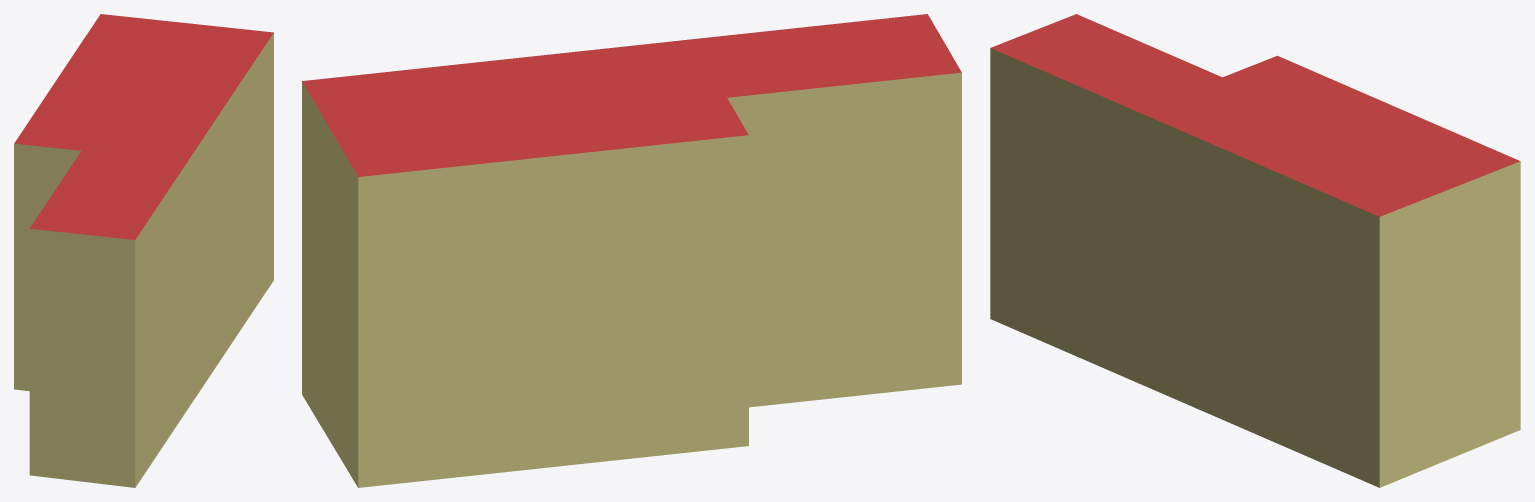
3 views of the same model, side by side, from view 1: azimuth 30°, elevation 25°; view 2: azimuth 150°, elevation 25°; view 3: azimuth 270°, elevation 25° (orthographic). The views are drawn at different scales.
Parts seen in each view (by area): view 1: group_4, group_3; view 2: group_4, group_3; view 3: group_4, group_3.
Part boxes in pixels (box(x1,y1,x2,y2)): group_4: box(14, 33, 273, 487); group_3: box(14, 14, 273, 239); group_4: box(302, 72, 961, 487); group_3: box(302, 14, 961, 176); group_4: box(990, 48, 1520, 487); group_3: box(991, 14, 1520, 216).
Size of the model in its own units: 8.74 by 9.58 by 5.41.
